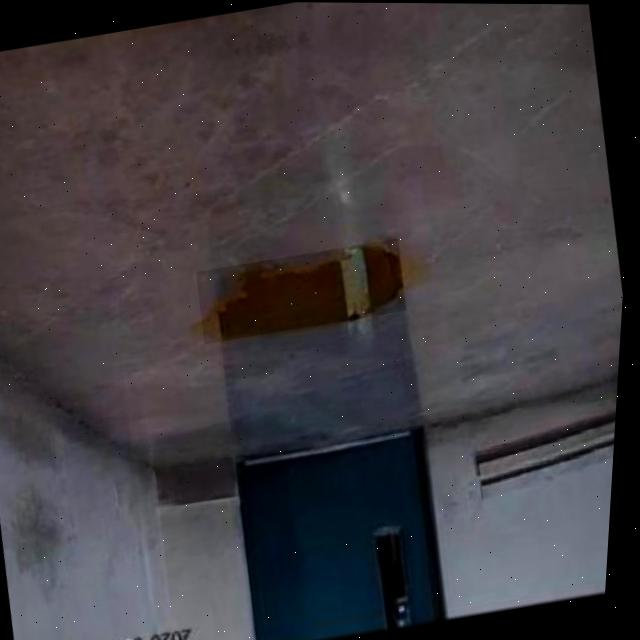spillage: (206, 244, 406, 340)
